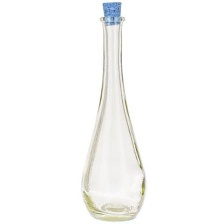bottle: (75, 12, 152, 223)
